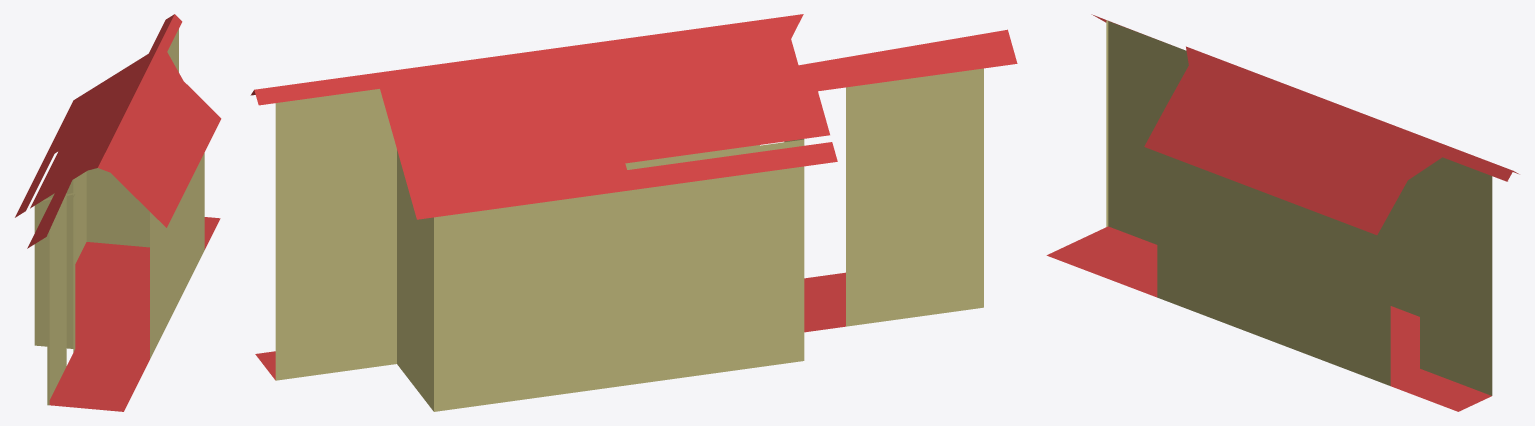
3 views of the same model, side by side, from view 1: azimuth 30°, elevation 25°; view 2: azimuth 150°, elevation 25°; view 3: azimuth 270°, elevation 25° (orthographic). The views are drawn at different scales.
Bounding box in the file's own units: 23.15 × 23.48 × 12.46.
